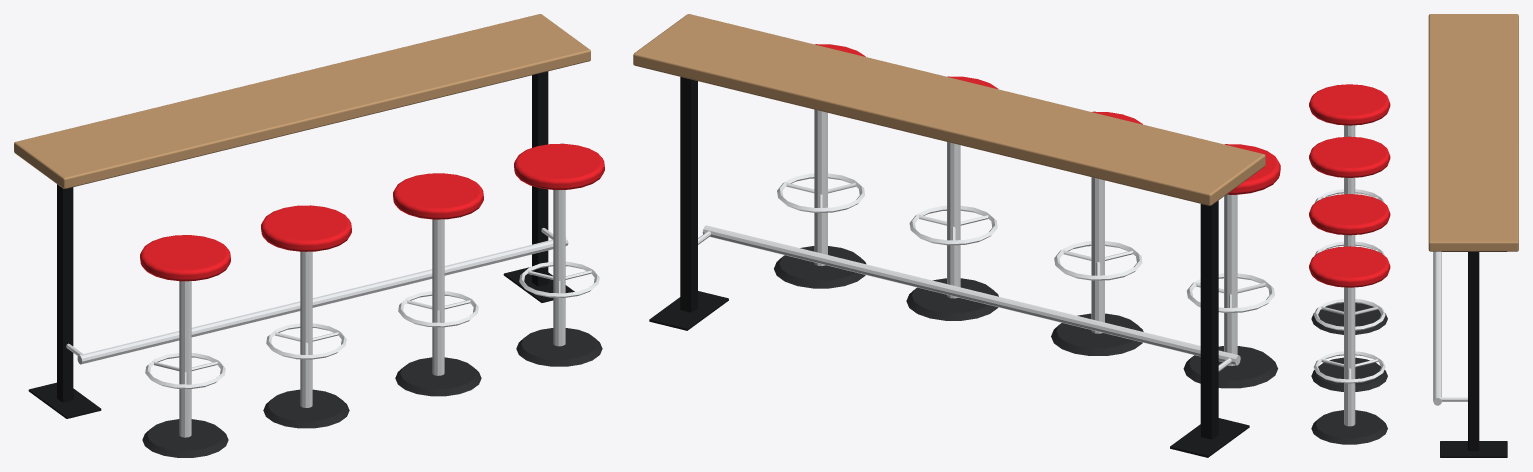
File: stool-bar.glb
The picture shows the model from 3 angles, left to right: view 1: azimuth 30°, elevation 25°; view 2: azimuth 150°, elevation 25°; view 3: azimuth 270°, elevation 25°; orthographic projection. The views are drawn at different scales.
Visible parts, largest first — view 1: BODY; view 2: BODY; view 3: BODY.
Part boxes in pixels (x1=…): BODY: x1=14, y1=14, x2=604, y2=457; BODY: x1=633, y1=14, x2=1280, y2=457; BODY: x1=1309, y1=14, x2=1518, y2=457.
Size of the model in its own units: 2.4 by 1.08 by 0.93.
